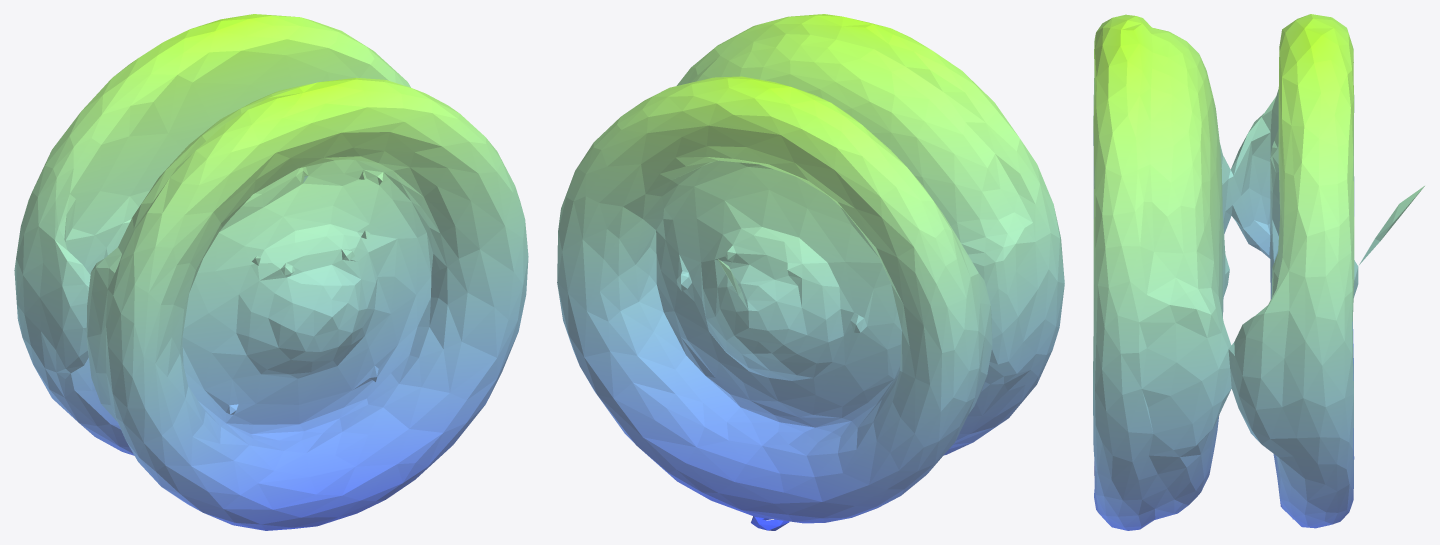
File: 28_cyb_laser_gradient_fish_scales_2859_2026_10_03_730e23.glb
3 renders of one model, left to right at view 1: azimuth 30°, elevation 25°; view 2: azimuth 150°, elevation 25°; view 3: azimuth 270°, elevation 25°, orthographic. The views are drawn at different scales.
Parts seen in each view (by area): view 1: geometry_0; view 2: geometry_0; view 3: geometry_0.
Part boxes in pixels (x1,y1,x2,y2): geometry_0: (14,14,528,530); geometry_0: (557,14,1064,530); geometry_0: (1093,14,1424,530).
Size of the model in its own units: 0.982 by 1 by 0.63.
